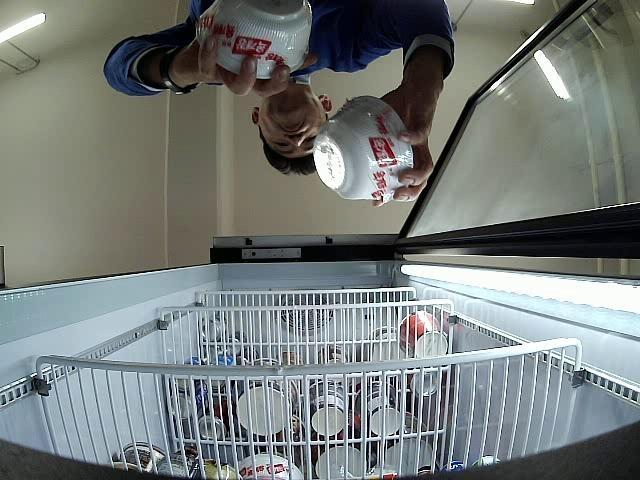09_yukGaeJang: (313, 97, 413, 200), (196, 0, 312, 79)
